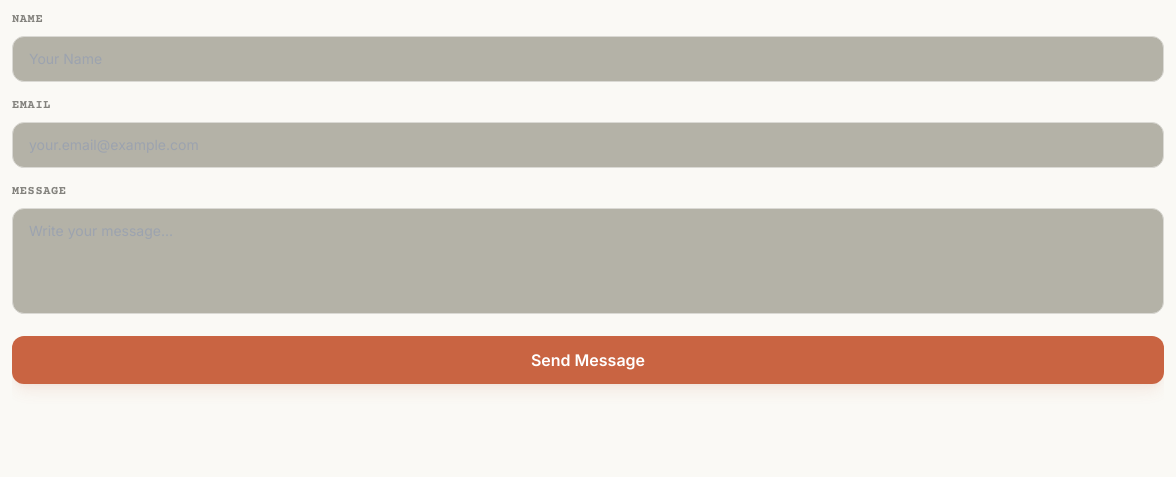
Scenario: ContactForm Component › handles server side error and shows error status message
In the field with placeholder "Your Name": (588, 59) [12,36,1164,82], type "Ryan"
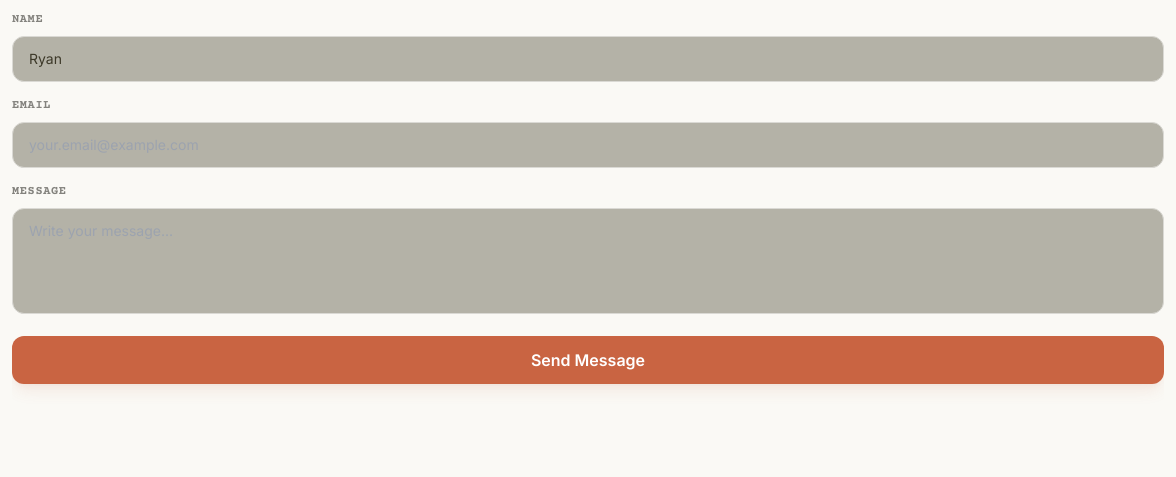
In the field with placeholder "your.email@example.com": (588, 145) [12,122,1164,168], type "ryan@test.com"
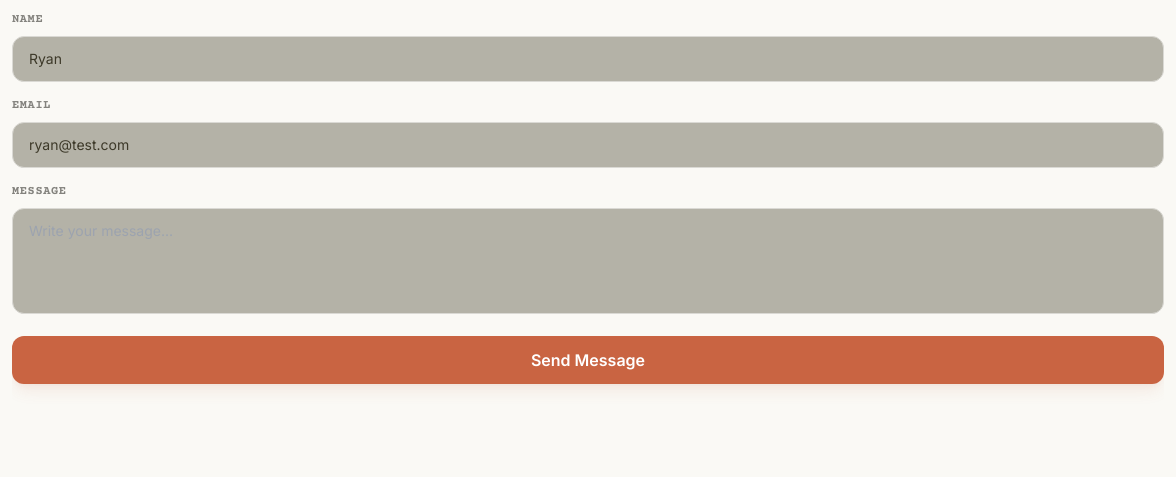
In the text box with placeholder "Write your message...": (588, 261) [12,208,1164,314], type "Hi there"
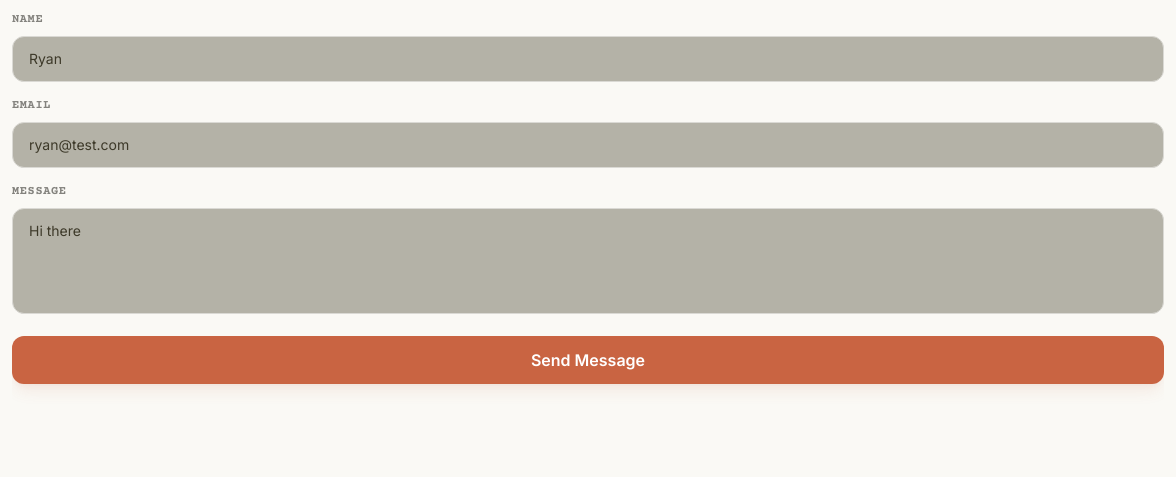
Click the button "Send Message": click(588, 360) [12,336,1164,384]
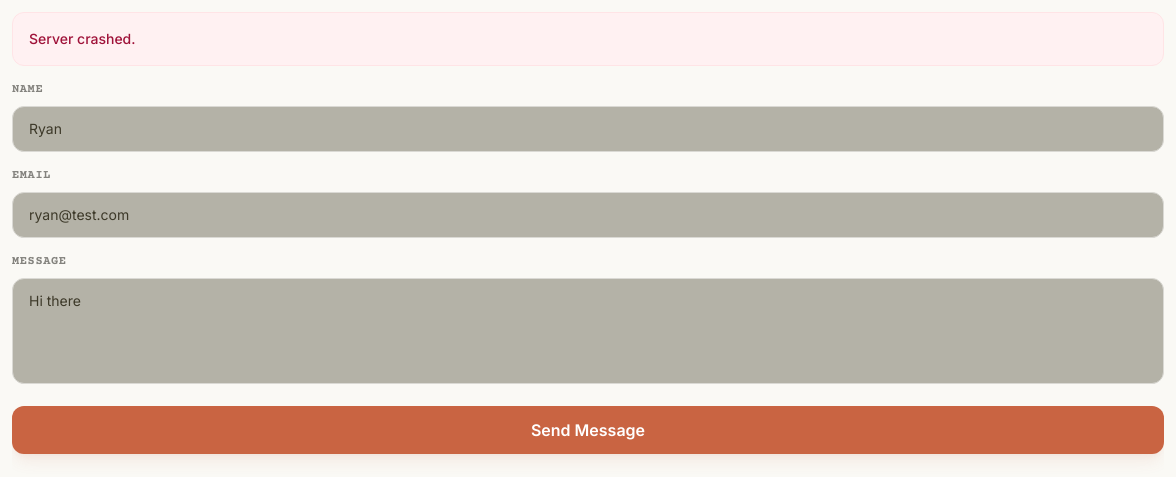
Expected: the text "Server crashed." is shown, [12,12,1164,66]
